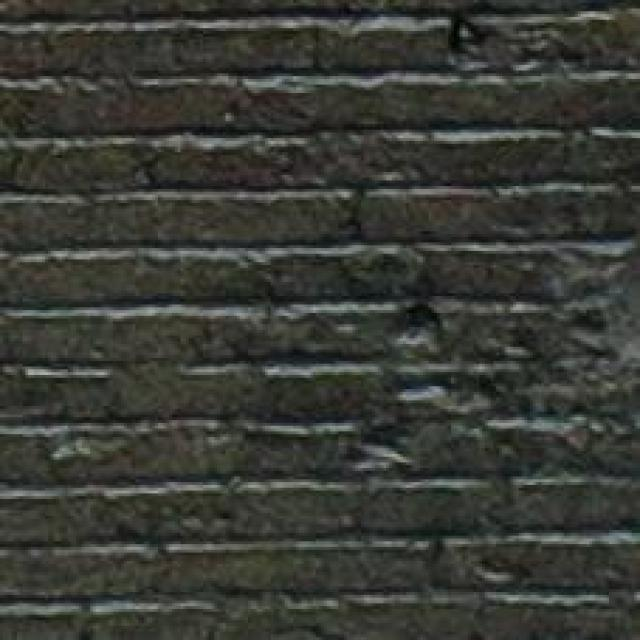Crack: (278, 159, 640, 516)
